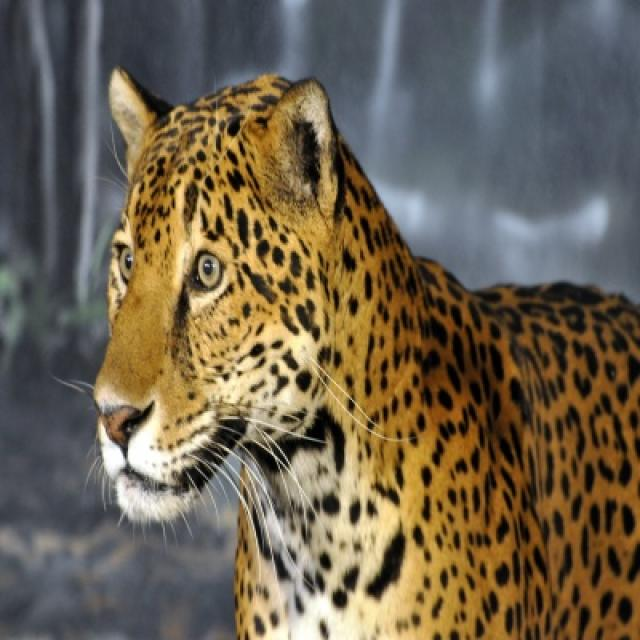Jaguar: (90, 69, 638, 638)
